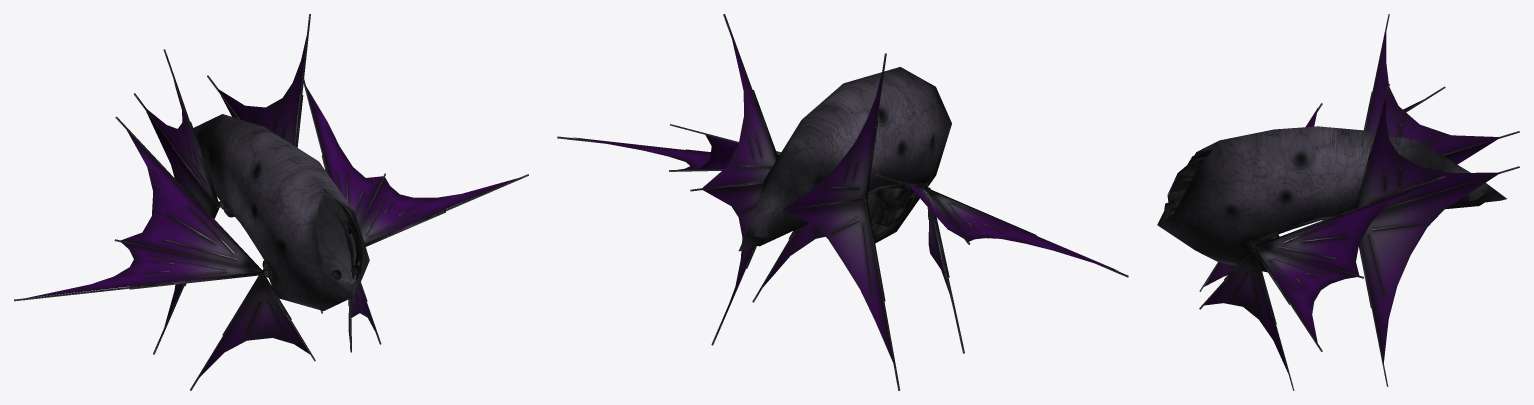
Rendered from shundi.obj.
The picture shows the model from 3 angles, left to right: view 1: azimuth 30°, elevation 25°; view 2: azimuth 150°, elevation 25°; view 3: azimuth 270°, elevation 25°; orthographic projection. The views are drawn at different scales.
Size of the model in its own units: 1588 by 891 by 984.
Materials: 6 (6 with a texture image).
